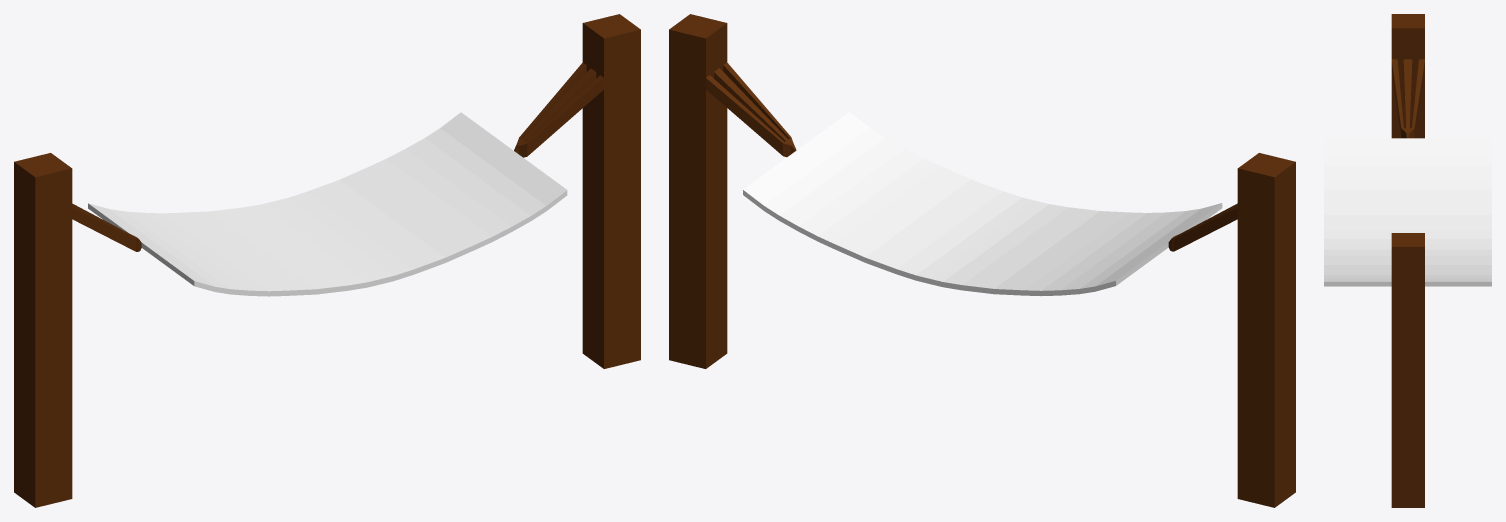
The model's file is Hamaca.fbx.
3 views of the same model, side by side, from view 1: azimuth 30°, elevation 25°; view 2: azimuth 150°, elevation 25°; view 3: azimuth 270°, elevation 25° (orthographic). The views are drawn at different scales.
Parts seen in each view (by area): view 1: Box001; view 2: Box001; view 3: Box001.
Part boxes in pixels (x1,y1,x2,y2): Box001: (14, 14, 640, 507); Box001: (669, 14, 1295, 507); Box001: (1324, 14, 1491, 507).
Size of the model in its own units: 98.59 by 51.43 by 30.01.
